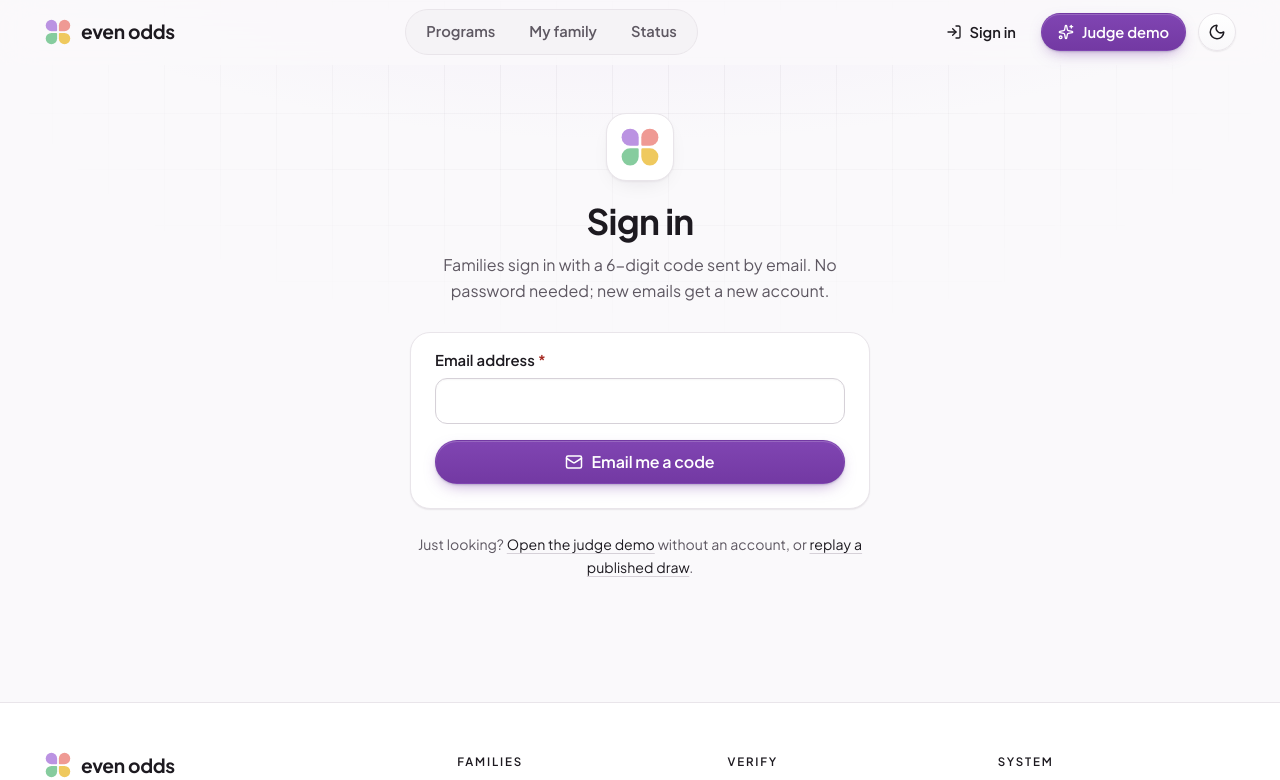
Test: SignInPage › validates the email before contacting Appwrite
Type "not-an-email" into the field labelled "Email address *".
click(640, 401); type("not-an-email")  # box [435,378,845,424]
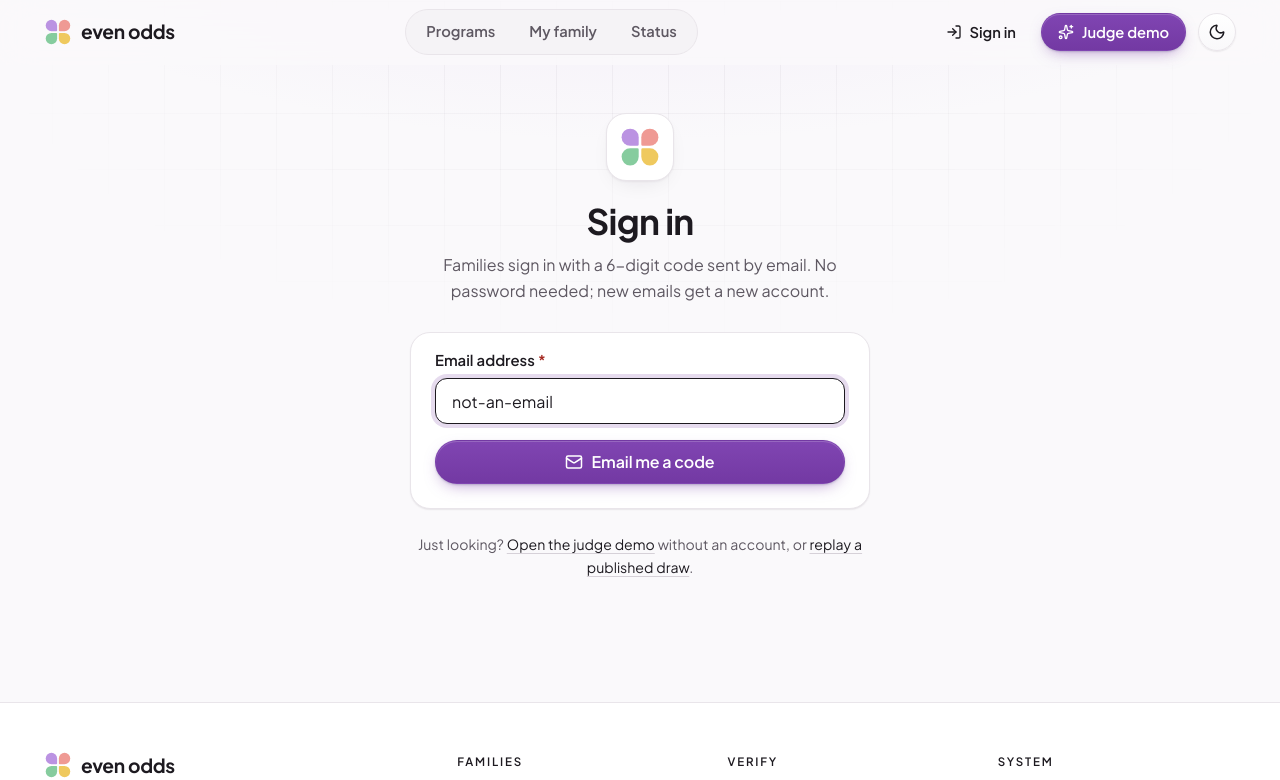
Click the button "Email me a code".
click(640, 462)  # box [435,440,845,484]
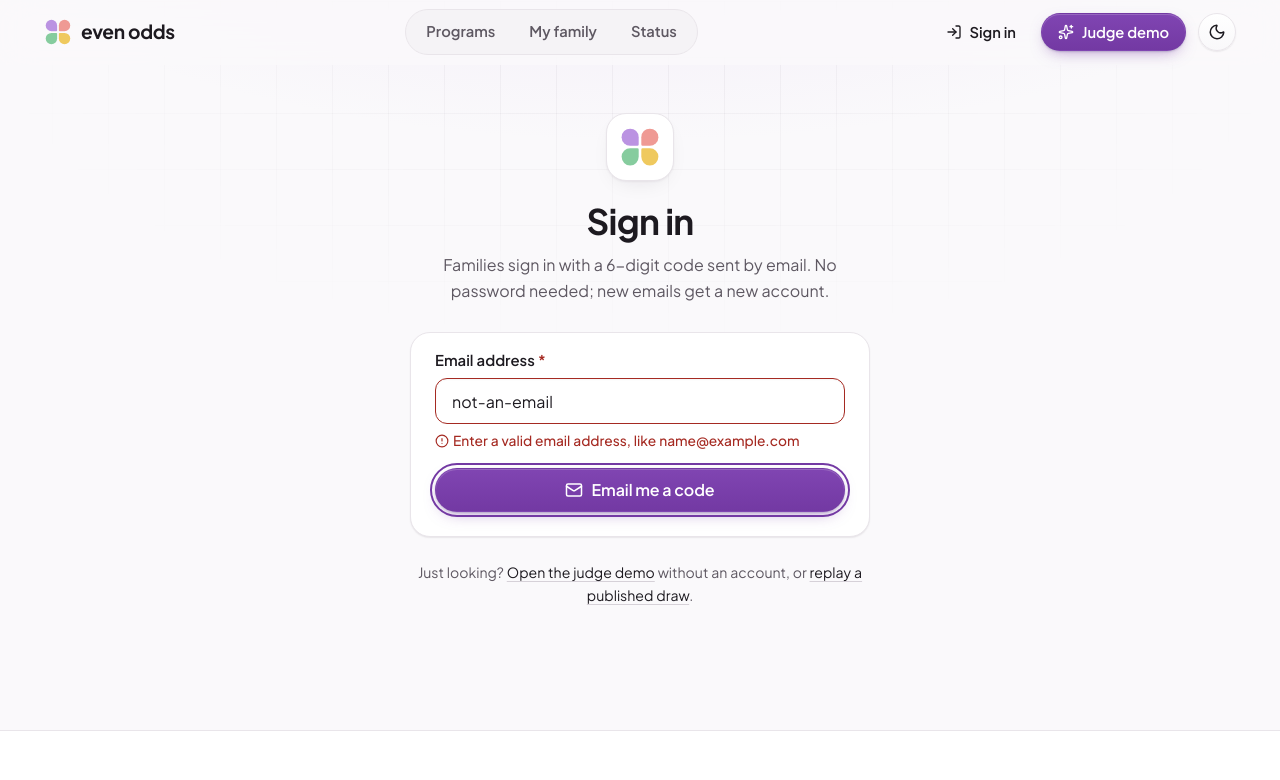
Expected: the text "Enter a valid email address, like name@example.com" is shown, [435,430,845,452]
